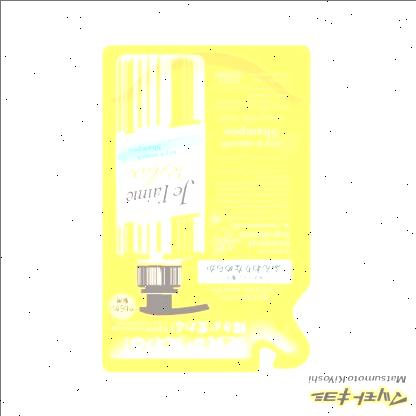Others: (97, 39, 315, 373)
